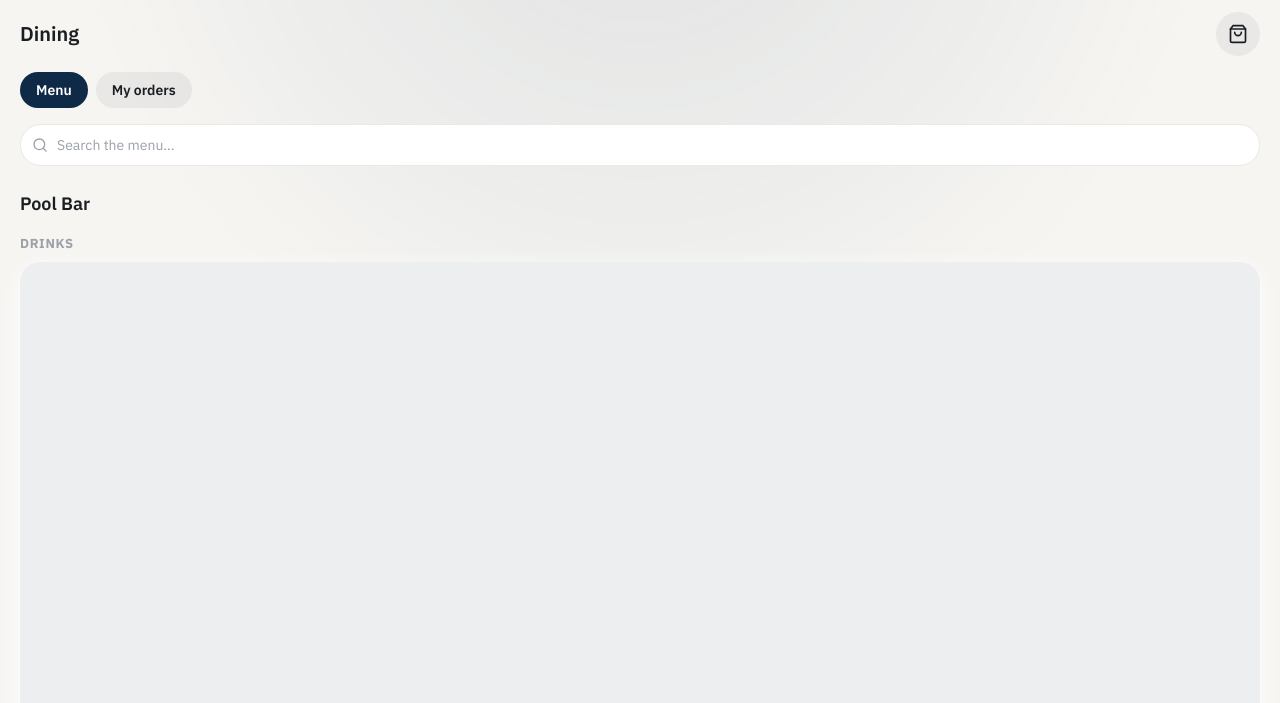
DiningScreen (16.5) › search filters items across menus; no-results state appears
The width and height of the screenshot is (1280, 703).
Type "whis" into the search field with test id "menu-search" at {"x": 640, "y": 145}, box [20, 124, 1260, 166]
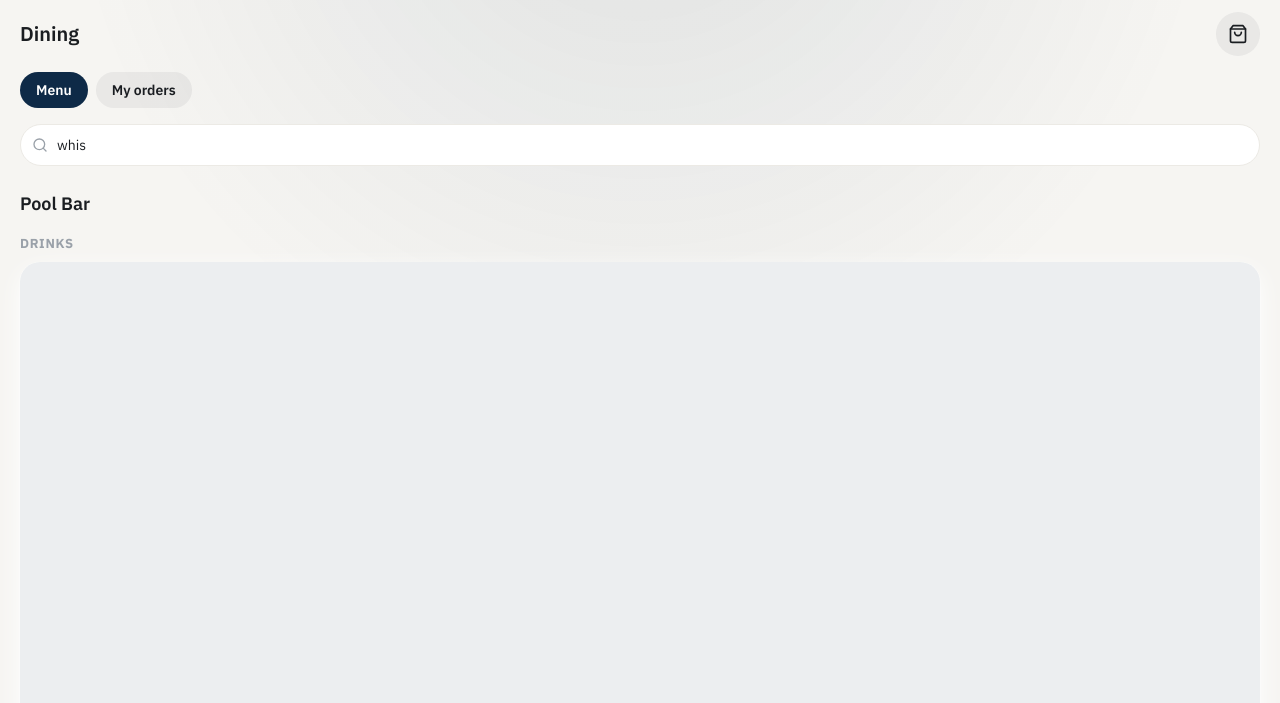
Replace the text in the search field with test id "menu-search" with "sushi" at {"x": 640, "y": 145}, box [20, 124, 1260, 166]
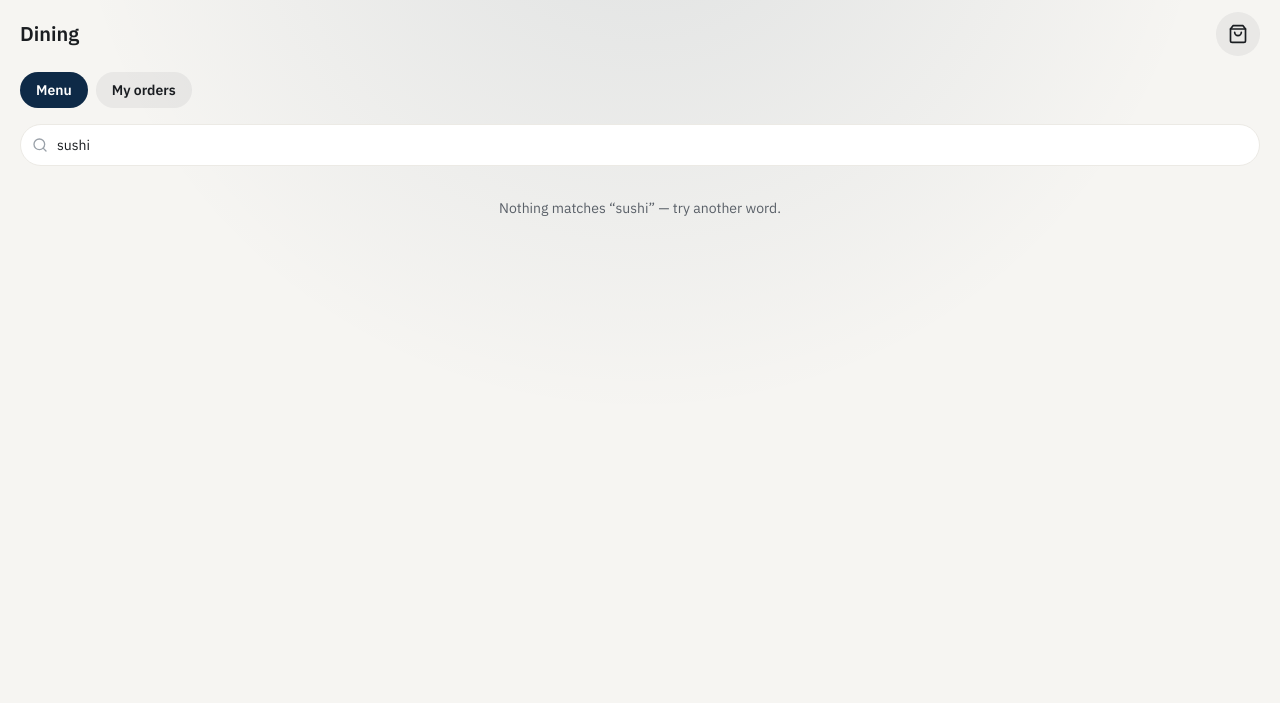
Result: the text "Nothing matches “sushi” — try another word." is shown at [499, 199, 781, 217]
